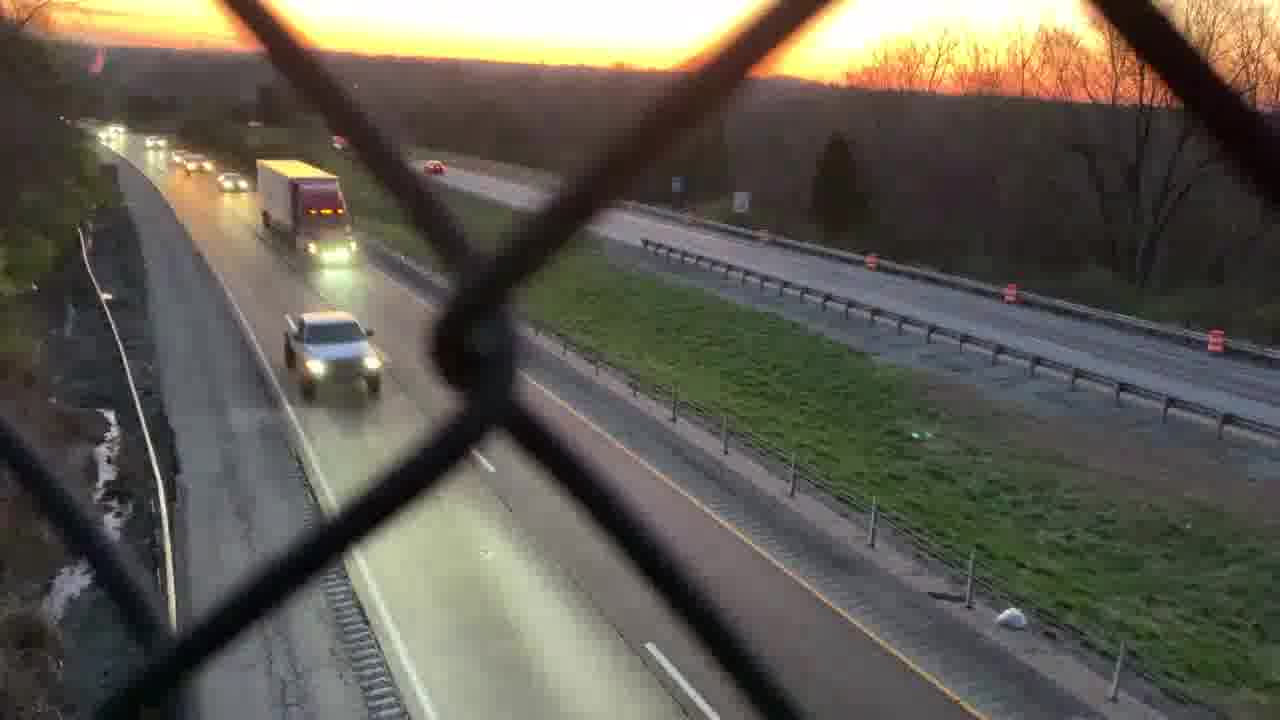heavyTruck: (252, 157, 357, 268)
lightTruck: (281, 310, 381, 398)
smallCar: (417, 153, 449, 177)
